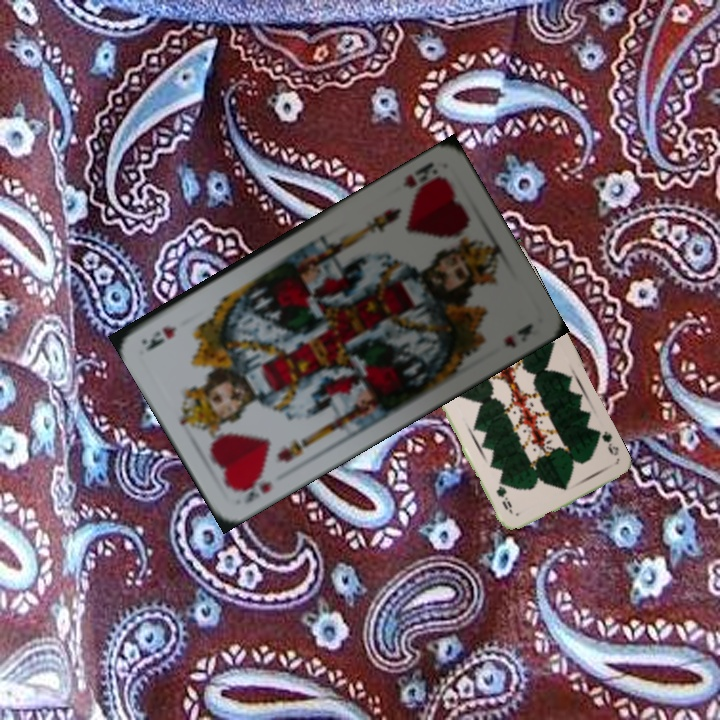G9: (593, 426, 622, 458)
HK: (230, 471, 274, 506), (398, 158, 440, 191)
